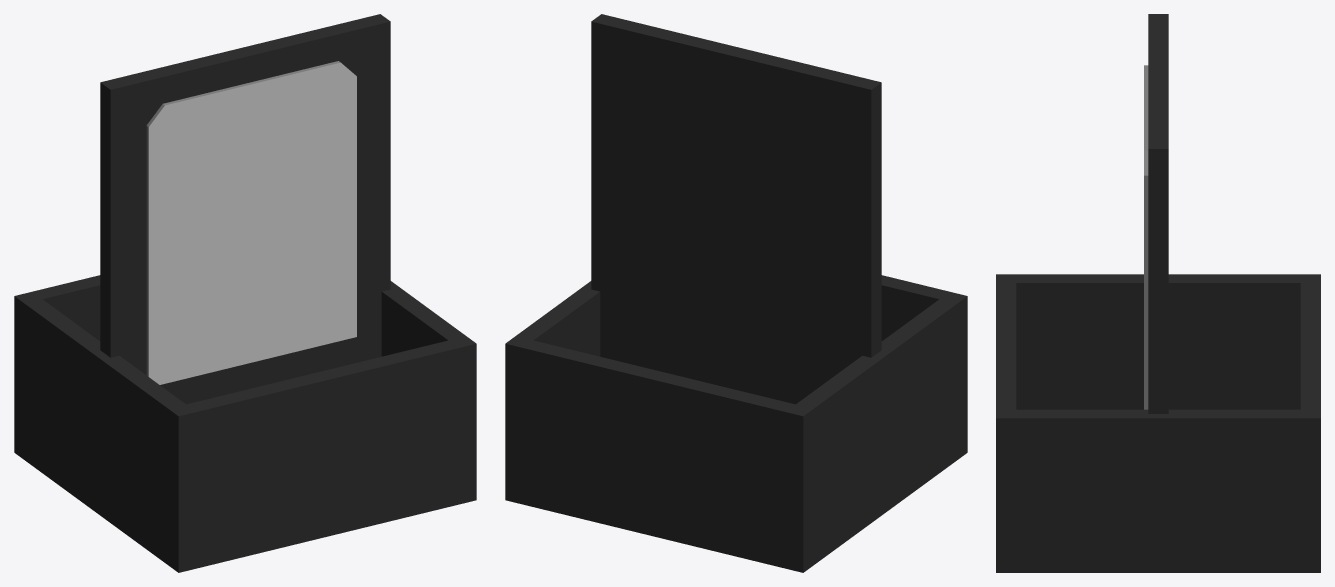
File: napkin_holder.fbx
3 views of the same model, side by side, from view 1: azimuth 30°, elevation 25°; view 2: azimuth 150°, elevation 25°; view 3: azimuth 270°, elevation 25° (orthographic).
Parts seen in each view (by area): view 1: napkin_holder; view 2: napkin_holder; view 3: napkin_holder.
Part boxes in pixels (x1=…): napkin_holder: x1=14, y1=14, x2=476, y2=572; napkin_holder: x1=505, y1=14, x2=967, y2=572; napkin_holder: x1=996, y1=14, x2=1320, y2=572.
Bounding box in the file's own units: 8.34 × 11.35 × 7.97.
